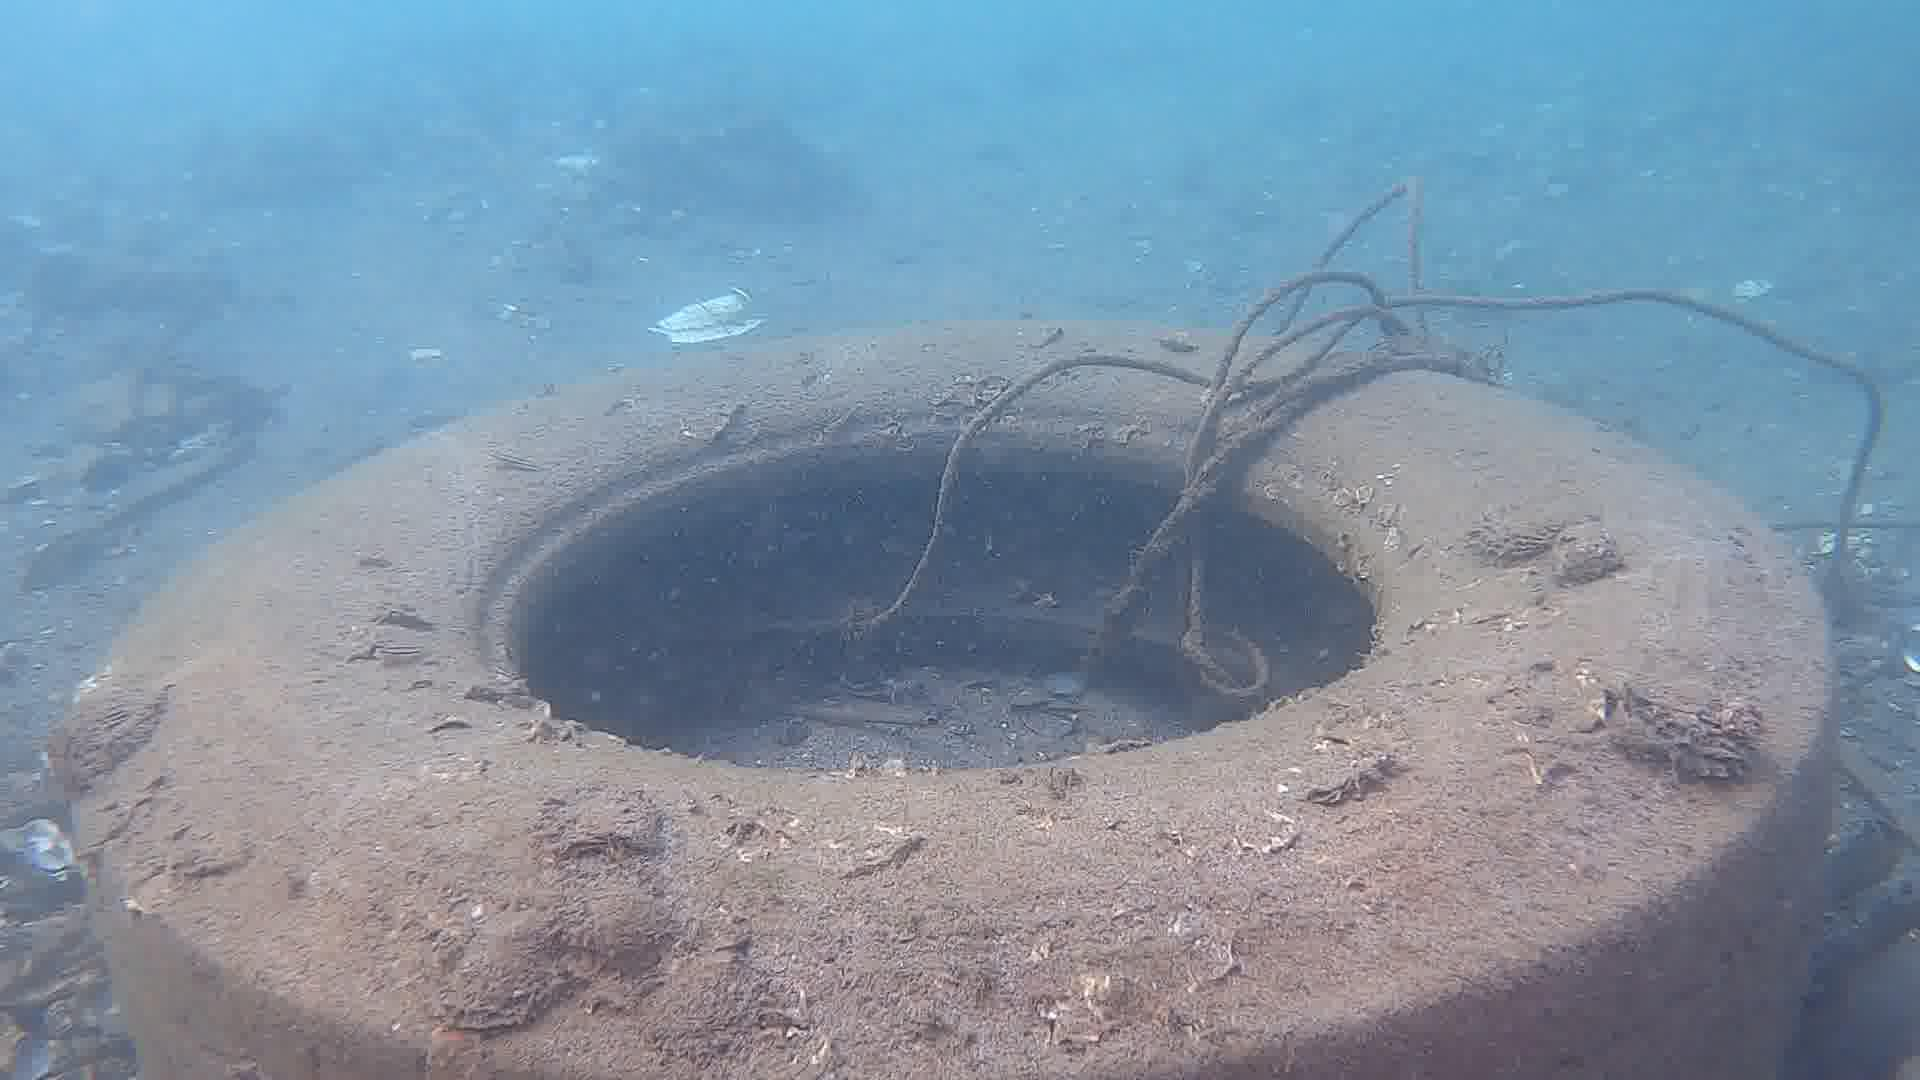bundle of ropes: (802, 173, 1884, 698)
tire: (65, 316, 1844, 1080)
